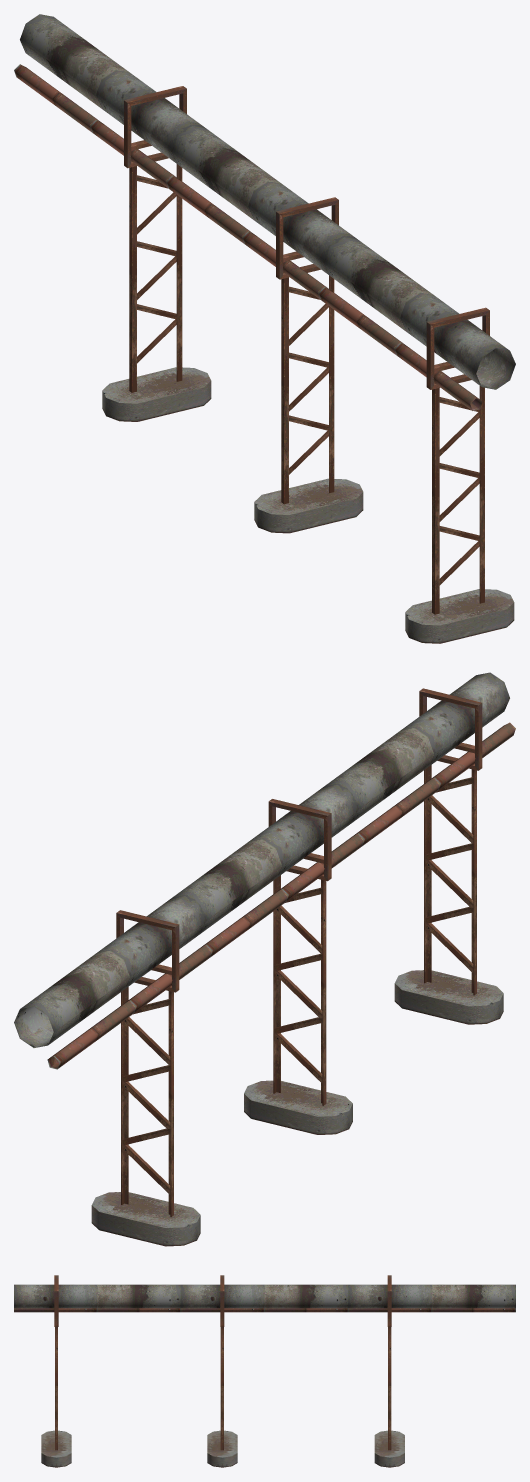
Rendered from Pipe_horizontal_long.fbx.
3 renders of one model, top to bottom at view 1: azimuth 30°, elevation 25°; view 2: azimuth 150°, elevation 25°; view 3: azimuth 270°, elevation 25°, orthographic. The views are drawn at different scales.
Parts seen in each view (by area): view 1: Pipe_horizontal_long; view 2: Pipe_horizontal_long; view 3: Pipe_horizontal_long.
Boxes of the visible parts, bbox=[...] form: Pipe_horizontal_long: bbox=[14, 14, 515, 643]; Pipe_horizontal_long: bbox=[14, 672, 515, 1246]; Pipe_horizontal_long: bbox=[14, 1275, 515, 1467].
Size of the model in its own units: 177 by 515 by 1375.
